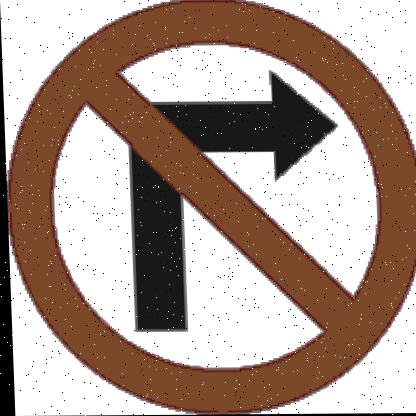No right turn: (6, 0, 416, 416)
